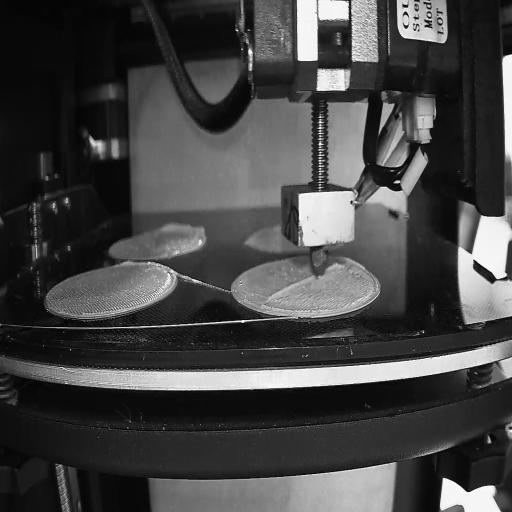over_extrusion: (264, 274, 316, 306), (158, 219, 206, 242), (325, 261, 345, 273), (118, 259, 137, 269)
